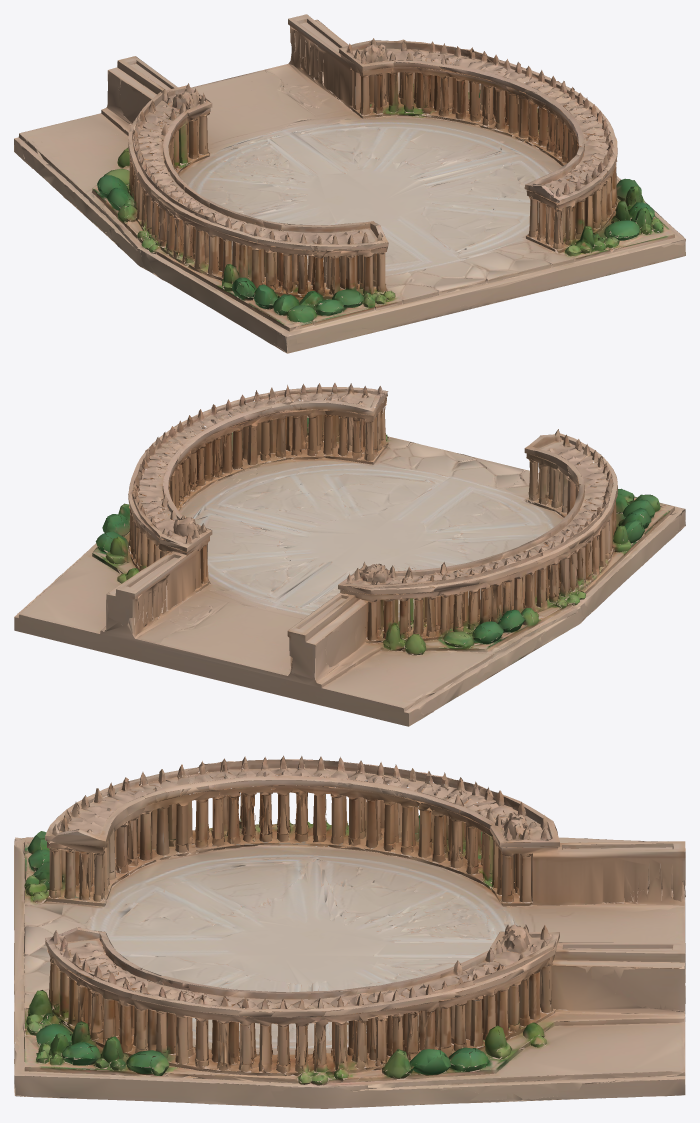
Rendered from StPeters.fbx.
3 views of the same model, one above another, from view 1: azimuth 30°, elevation 25°; view 2: azimuth 150°, elevation 25°; view 3: azimuth 270°, elevation 25° (orthographic). The views are drawn at different scales.
Parts seen in each view (by area): view 1: StPeters; view 2: StPeters; view 3: StPeters.
Boxes of the visible parts, x1,y1,x2,y2 form: StPeters: [14, 14, 685, 353]; StPeters: [14, 383, 685, 726]; StPeters: [14, 755, 685, 1108].
Bounding box in the file's own units: 22.23 × 4.26 × 24.01.
1 material, 1 textured.
